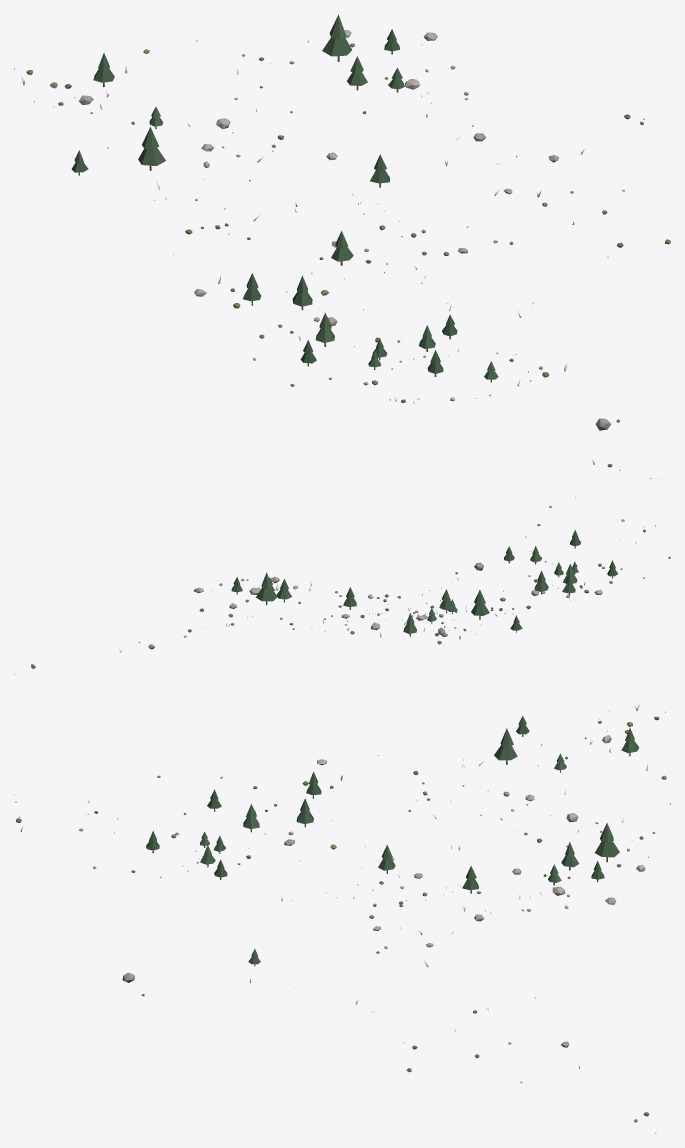
File: coast_land_scatter_c11_16_lod1.glb
3 views of the same model, one above another, from view 1: azimuth 30°, elevation 25°; view 2: azimuth 150°, elevation 25°; view 3: azimuth 270°, elevation 25° (orthographic). The views are drawn at different scales.
Parts seen in each view (by area): view 1: coast_land_scatter_c11_16_lod1; view 2: coast_land_scatter_c11_16_lod1; view 3: coast_land_scatter_c11_16_lod1.
Boxes of the visible parts, left/top/right/bottom form: coast_land_scatter_c11_16_lod1: left=14, top=14, right=670, bottom=430; coast_land_scatter_c11_16_lod1: left=14, top=460, right=670, bottom=674; coast_land_scatter_c11_16_lod1: left=14, top=704, right=670, bottom=1133.
Size of the model in its own units: 236 by 74.08 by 246.
